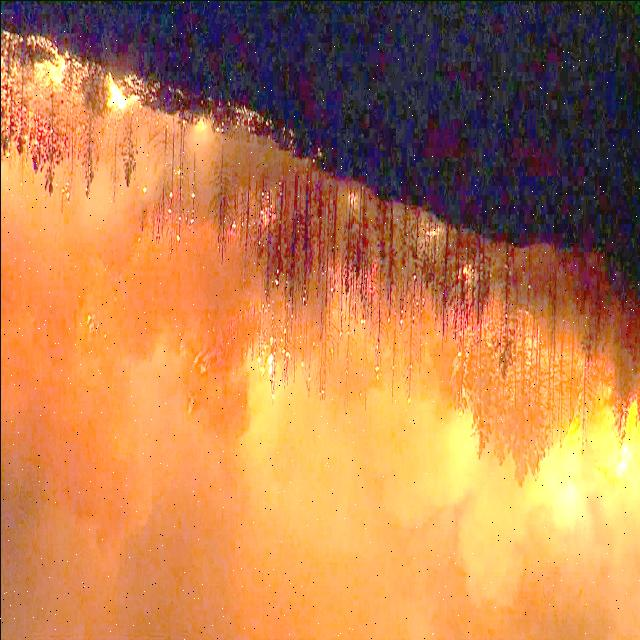api: (108, 71, 134, 121), (611, 431, 639, 474), (35, 58, 60, 83)
asap: (241, 411, 587, 640), (7, 182, 159, 640)
